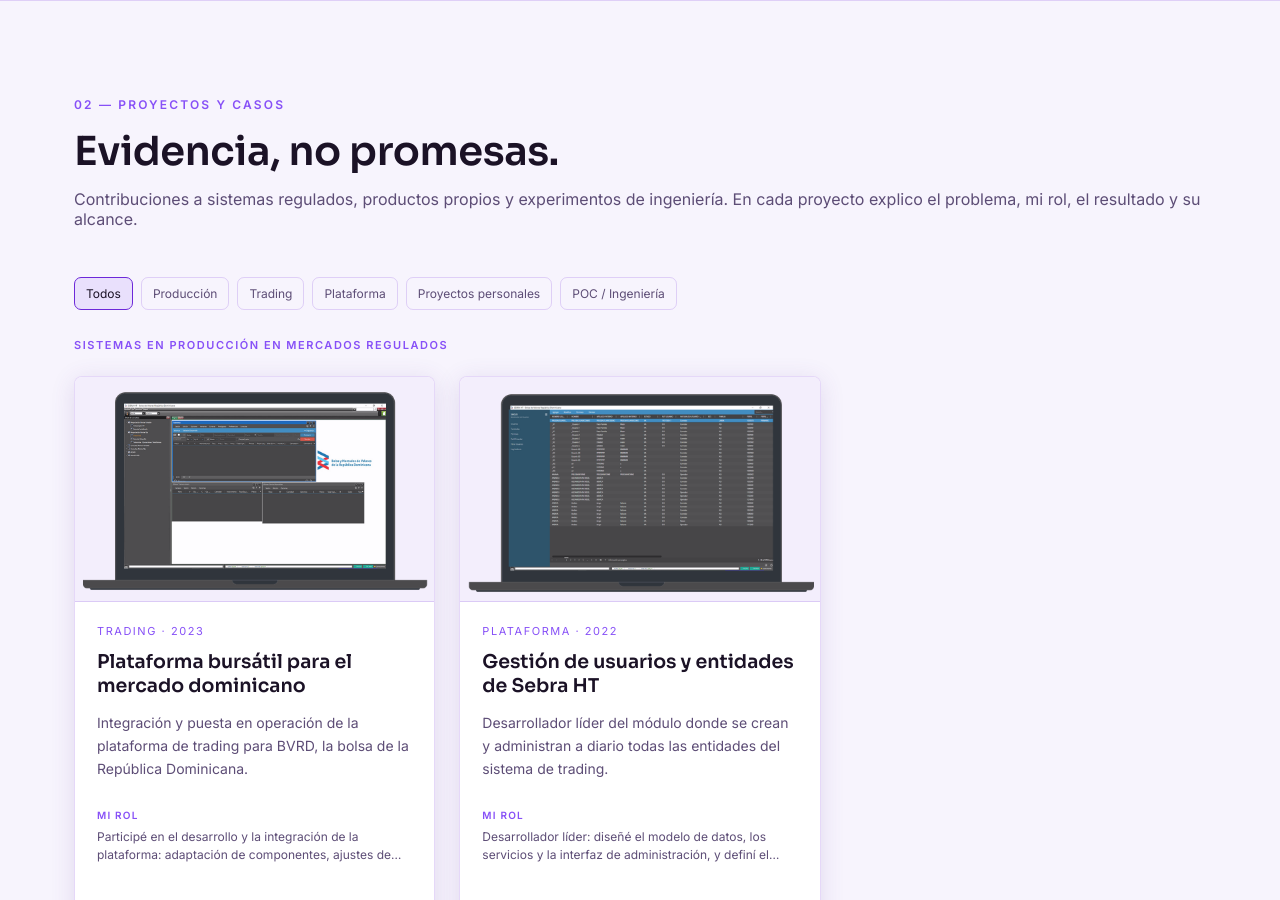
Test: presents the standalone market lab as a personal engineering project with demo and source links
Click the button "Proyectos personales". click: point(479, 294)
box: 406,277 -> 552,310
(page scrolled)
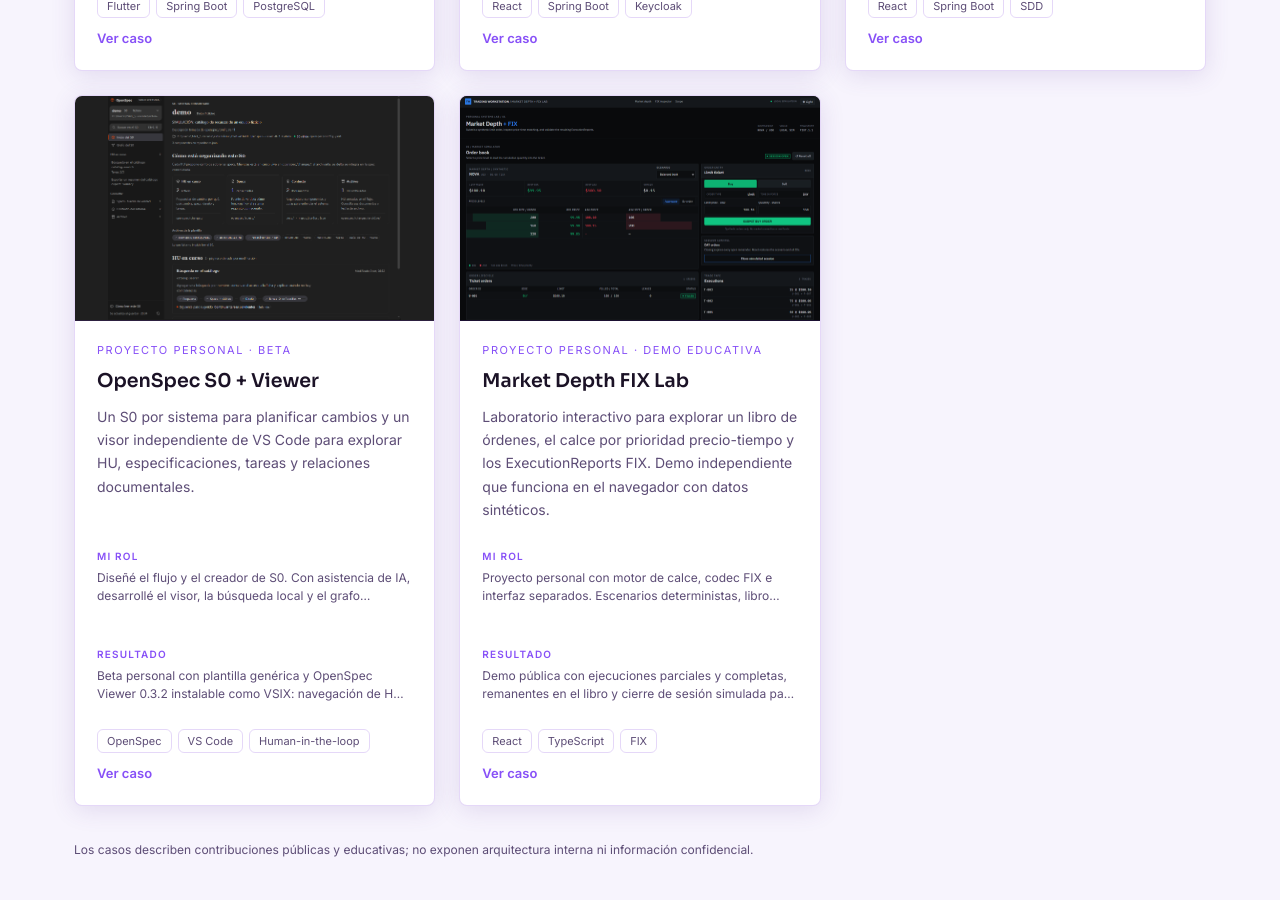
expect the heading "Market Depth FIX Lab" is shown: met, box 482,369 -> 689,393
expect the button "mercado dominicano" is gone: met
Click the button "PROYECTO PERSONAL · DEMO EDUCATIVA". click: point(640, 450)
box: 459,95 -> 821,806
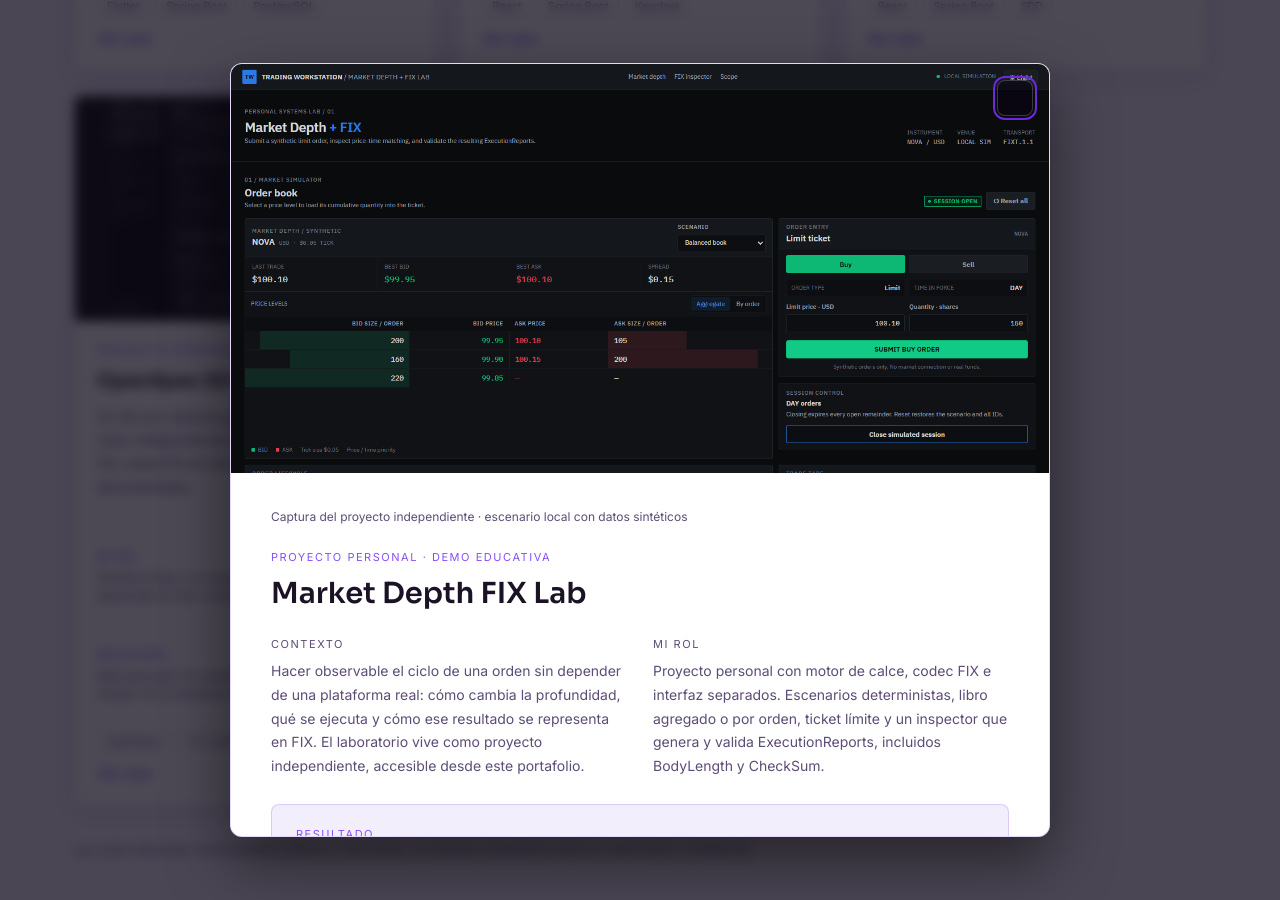
Click the button named "Cerrar". click: point(1015, 98)
box: 997,80 -> 1033,116
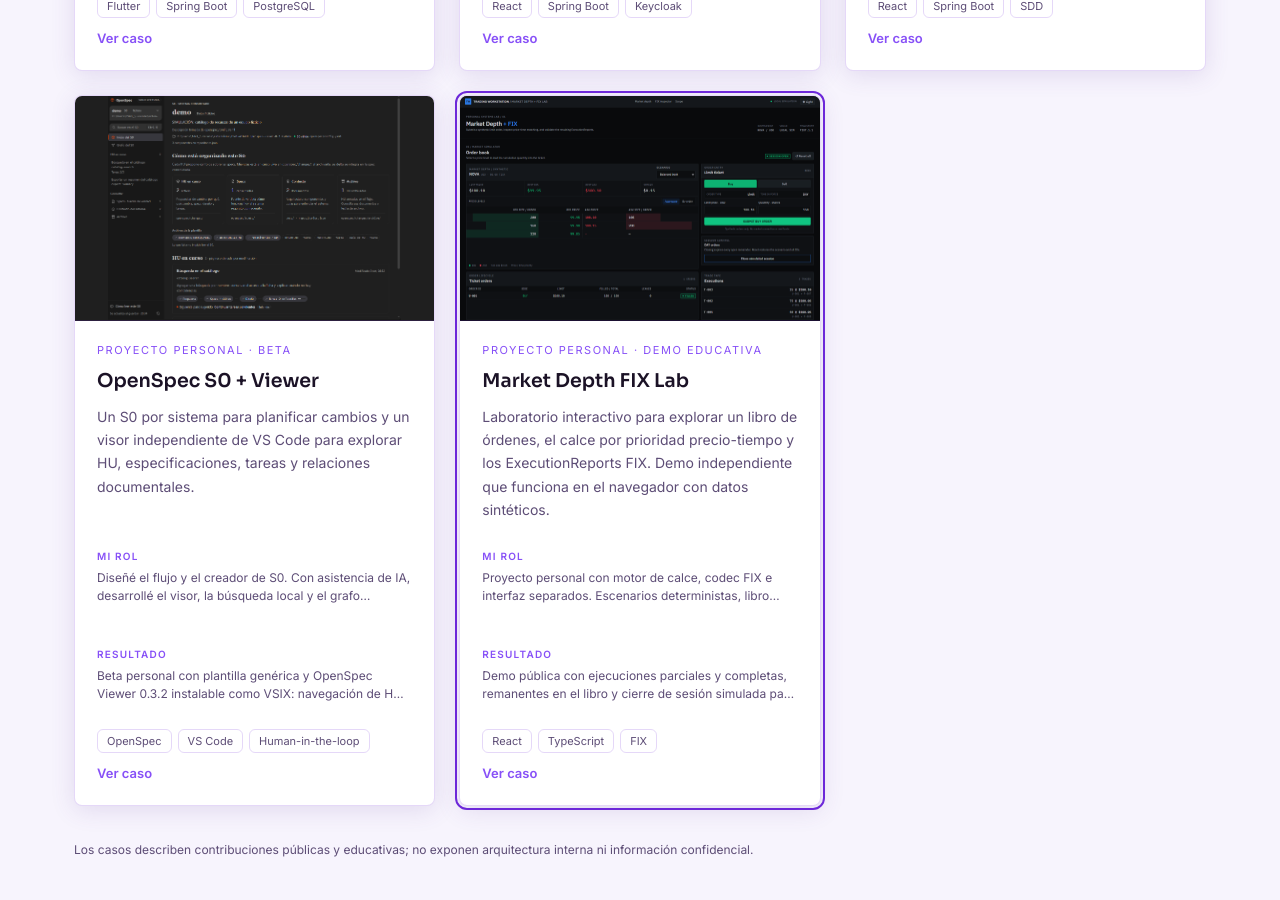
expect the dialog is gone: met
